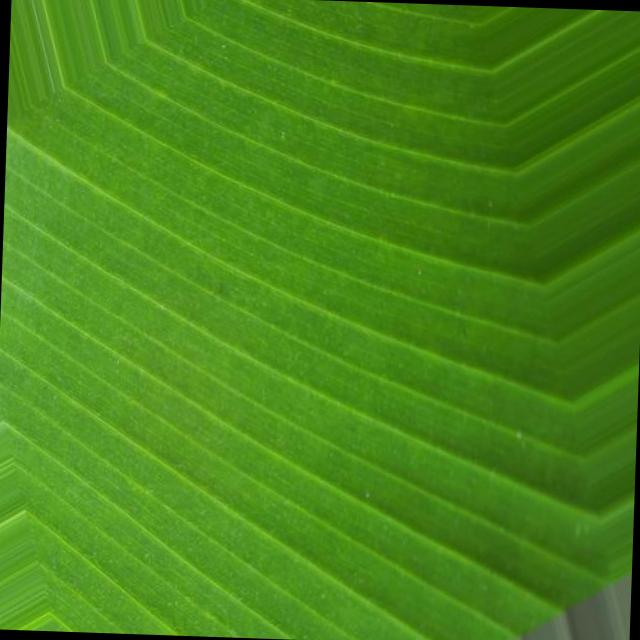Banana_Healthy: (127, 110, 510, 434)
